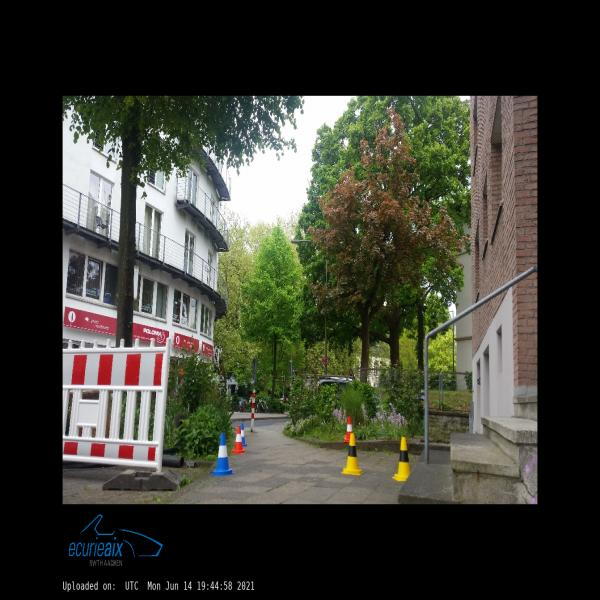blue_cone: (211, 434, 235, 476), (241, 424, 247, 446)
orange_cone: (232, 426, 245, 454), (344, 416, 356, 442)
yellow_cone: (342, 434, 363, 475), (392, 437, 410, 481)
